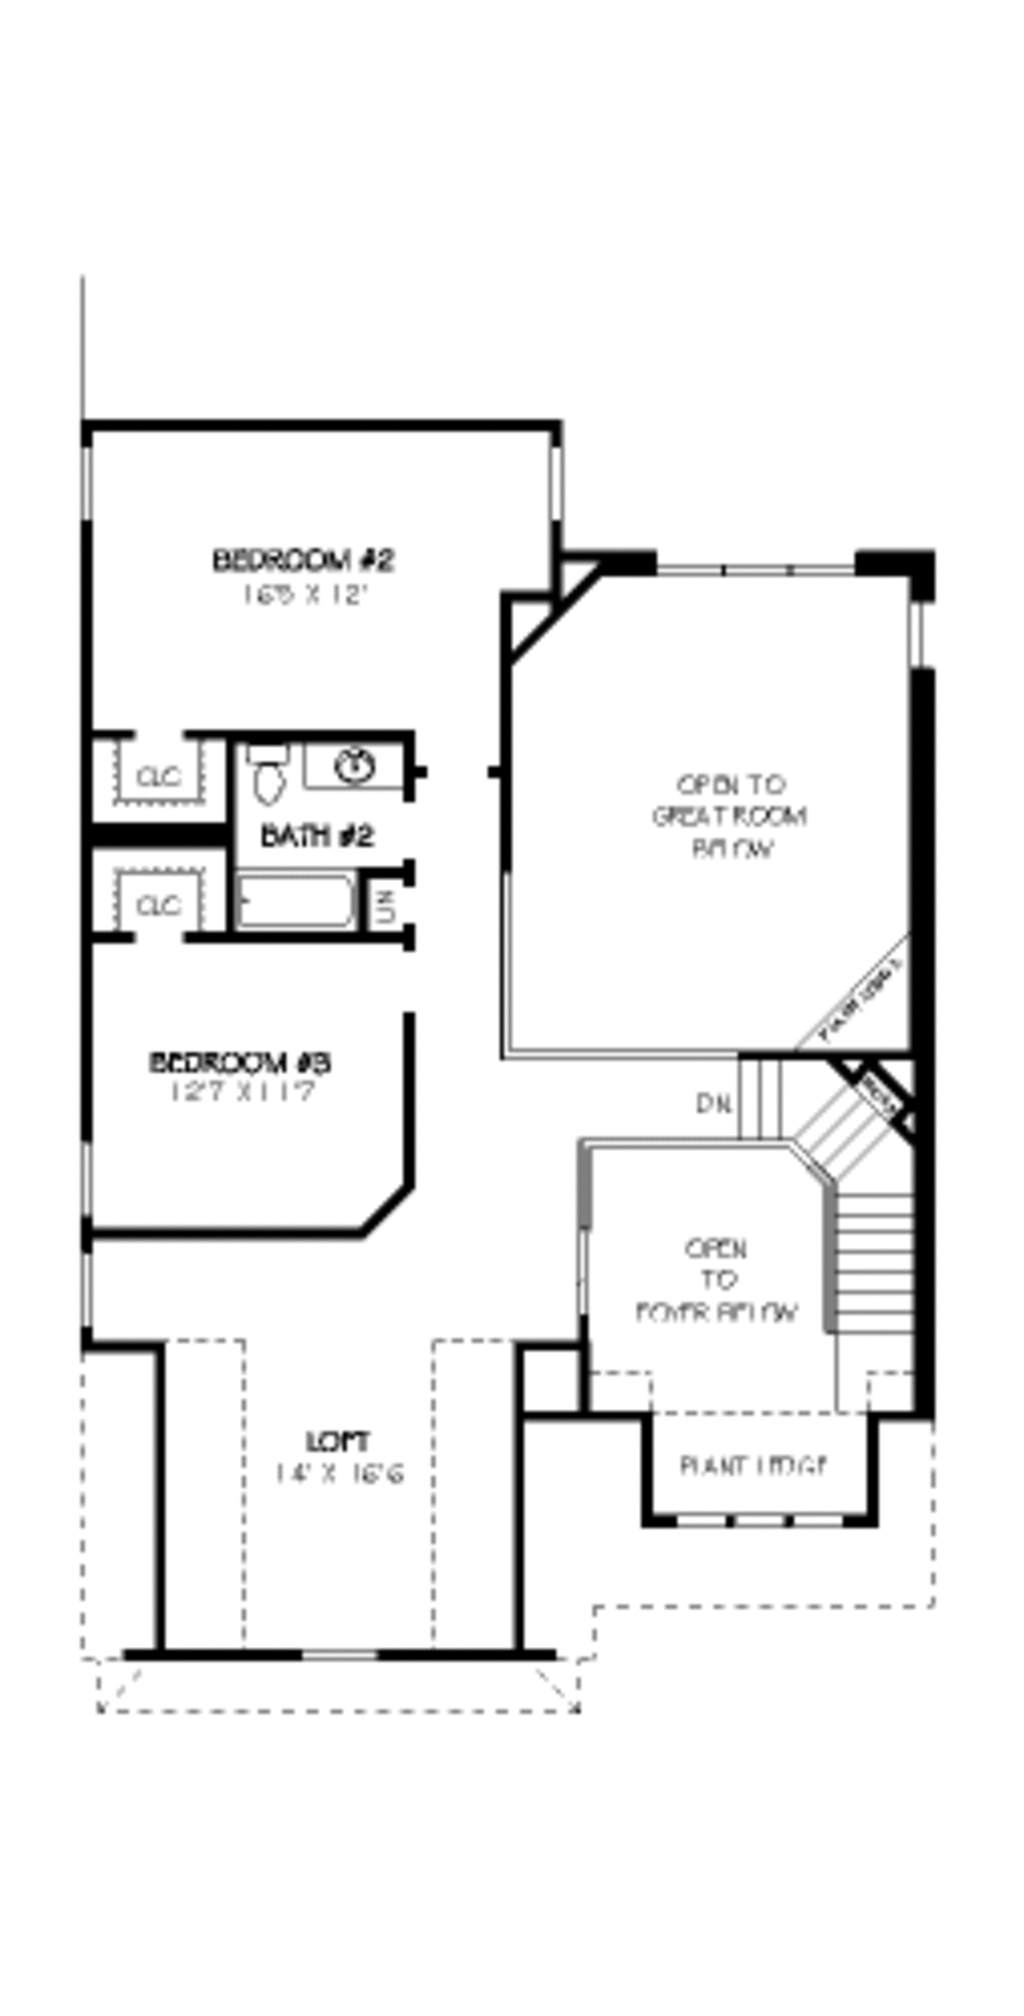large_sink: (226, 723, 300, 832)
small_sink: (291, 729, 422, 800)
stairs: (722, 1042, 935, 1376)
tub: (222, 857, 379, 957)
window: (664, 548, 863, 582), (69, 1139, 101, 1327), (682, 1515, 852, 1539), (296, 1643, 391, 1670), (69, 443, 94, 524), (551, 426, 566, 531)
